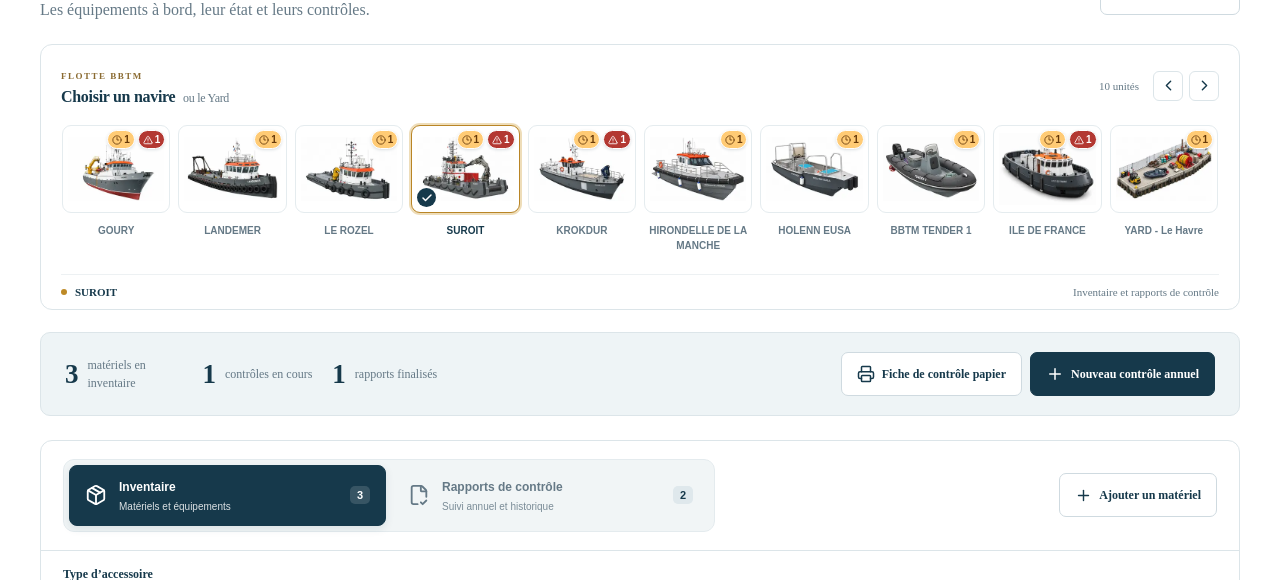
Test: lifting vessel photo selection › changes inventory and report context with the photo filter while keeping the selected view
Click the button "1 HOLENN EUSA".
click(815, 192)  # box 761,125 -> 868,258
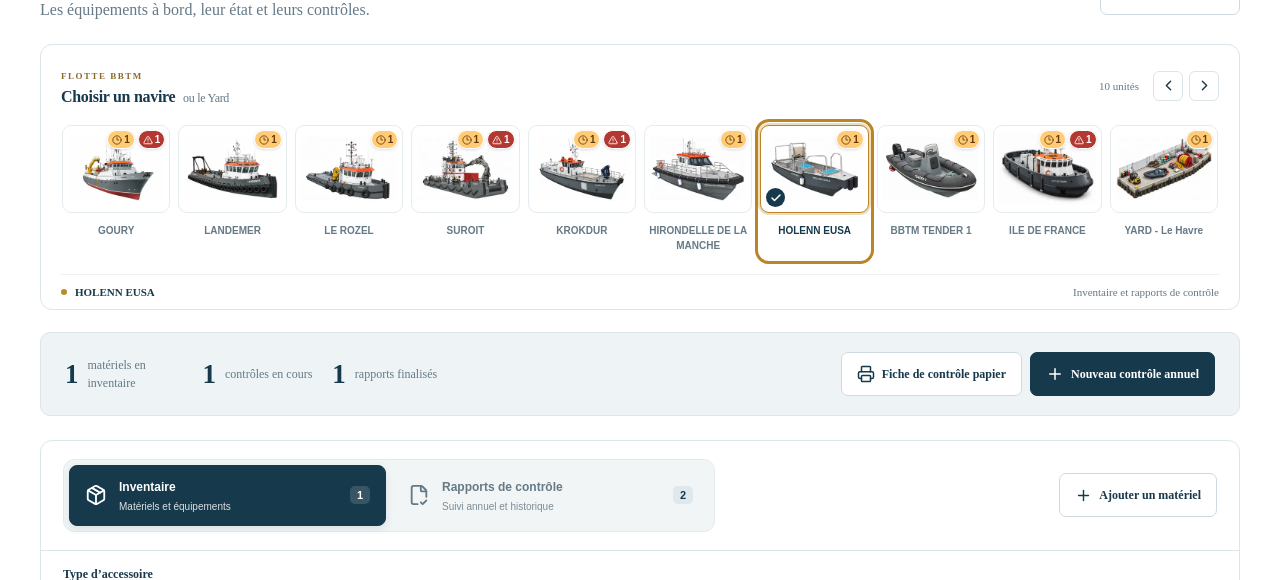
Result: the button "1 HOLENN EUSA" is pressed at 761,125 -> 868,258
Click the button "Rapports de contrôle".
click(550, 495)  # box 392,465 -> 709,526
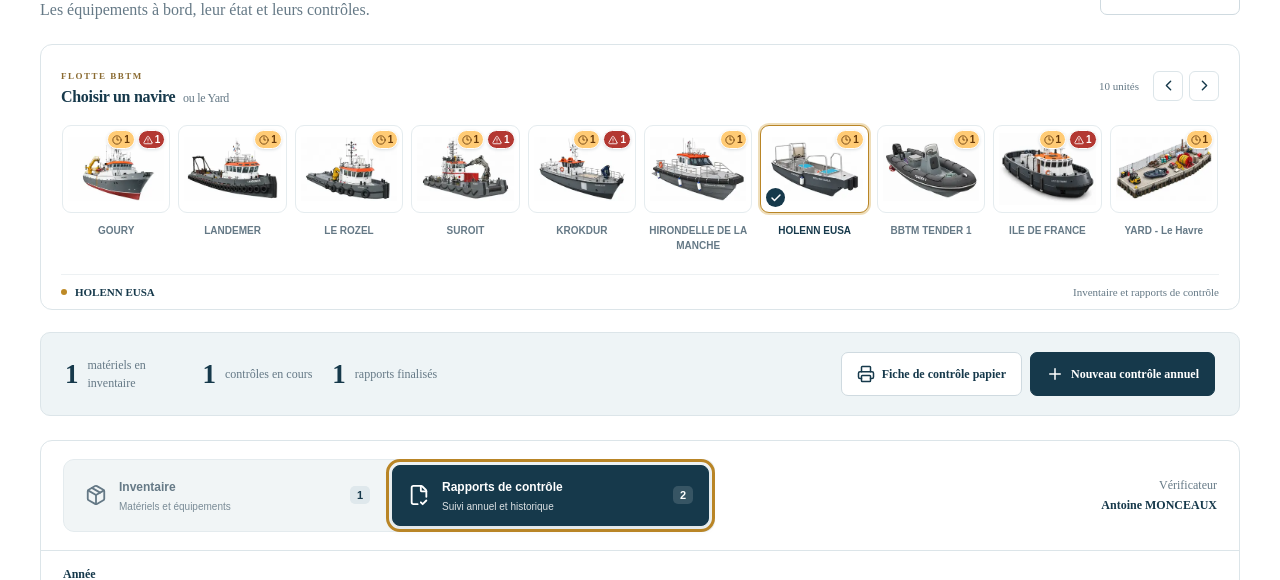
Click the button "1 1 GOURY".
click(116, 192)  # box 63,125 -> 169,258
(page scrolled)
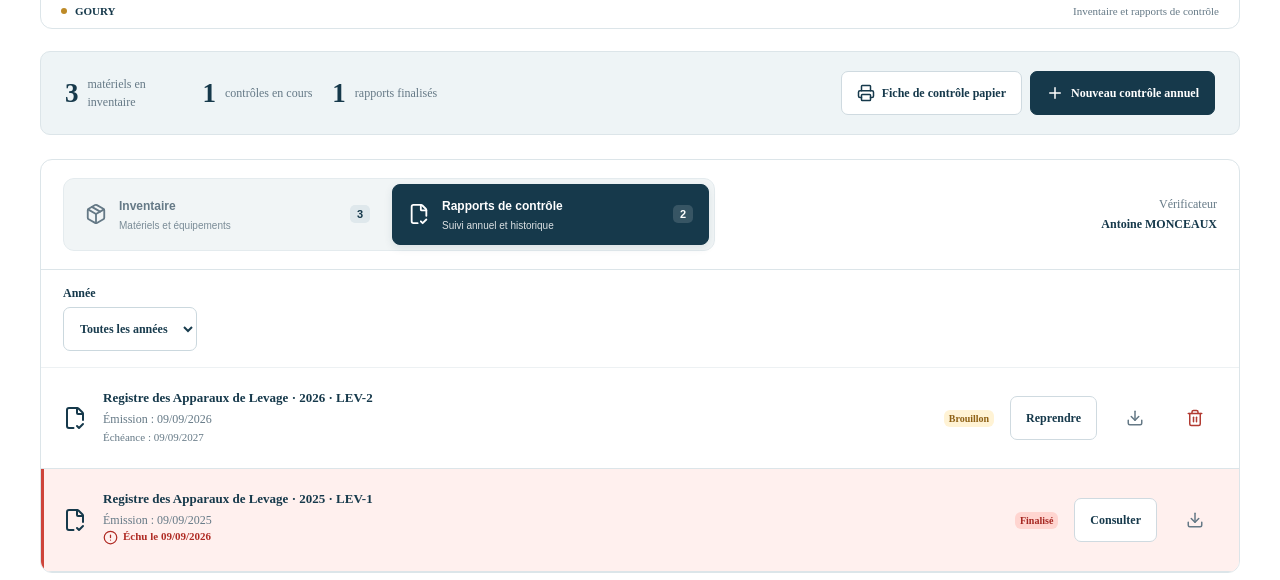
Result: the button "Rapports de contrôle" is pressed at 392,184 -> 709,245
Click the button "Reprendre".
click(1054, 418)  # box 1010,396 -> 1097,440
(page scrolled)
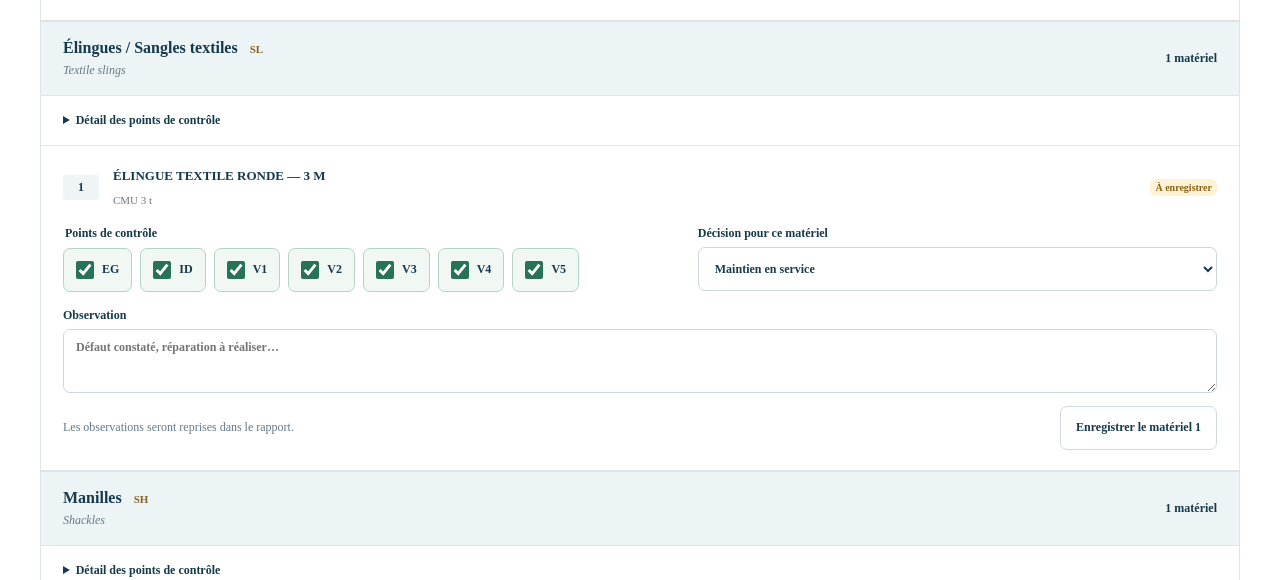
Click the checkbox labelled "V1".
click(236, 270)  # box 227,261 -> 245,279
(page scrolled)
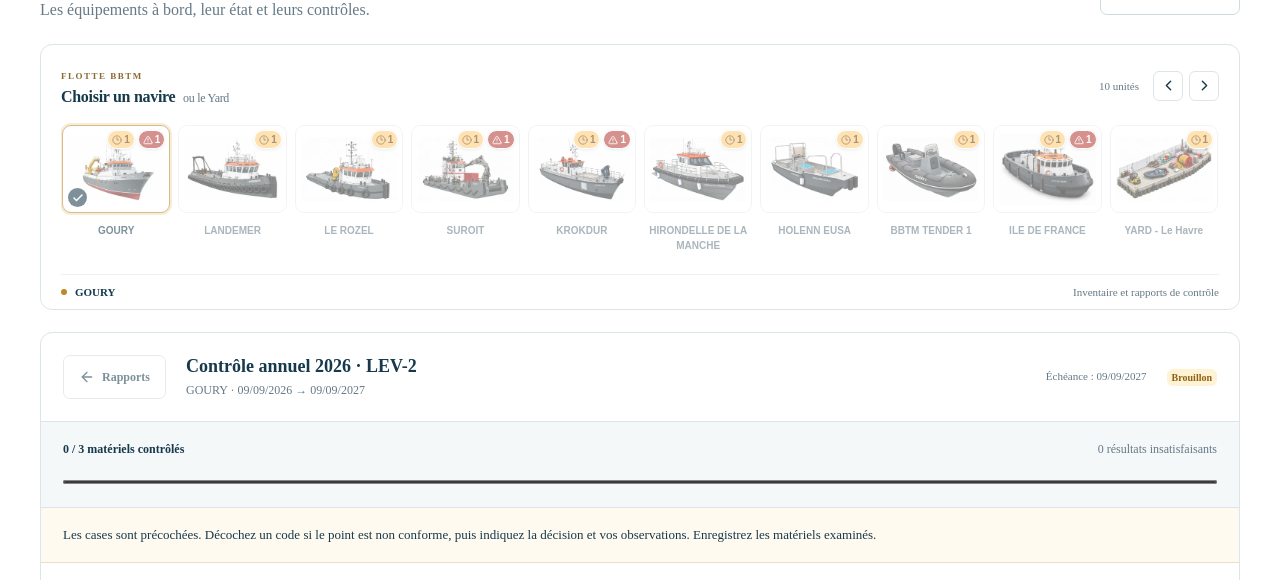
Result: the button "1 1 SUROIT" is disabled at 412,125 -> 519,258
